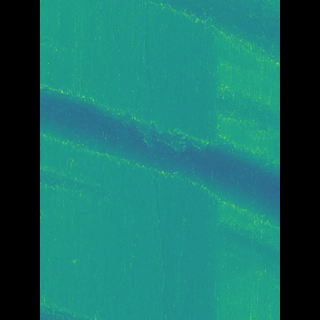Loch: (69, 77, 251, 284), (151, 0, 250, 69)
